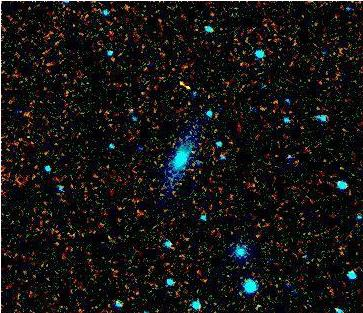star: (168, 66, 198, 96)
